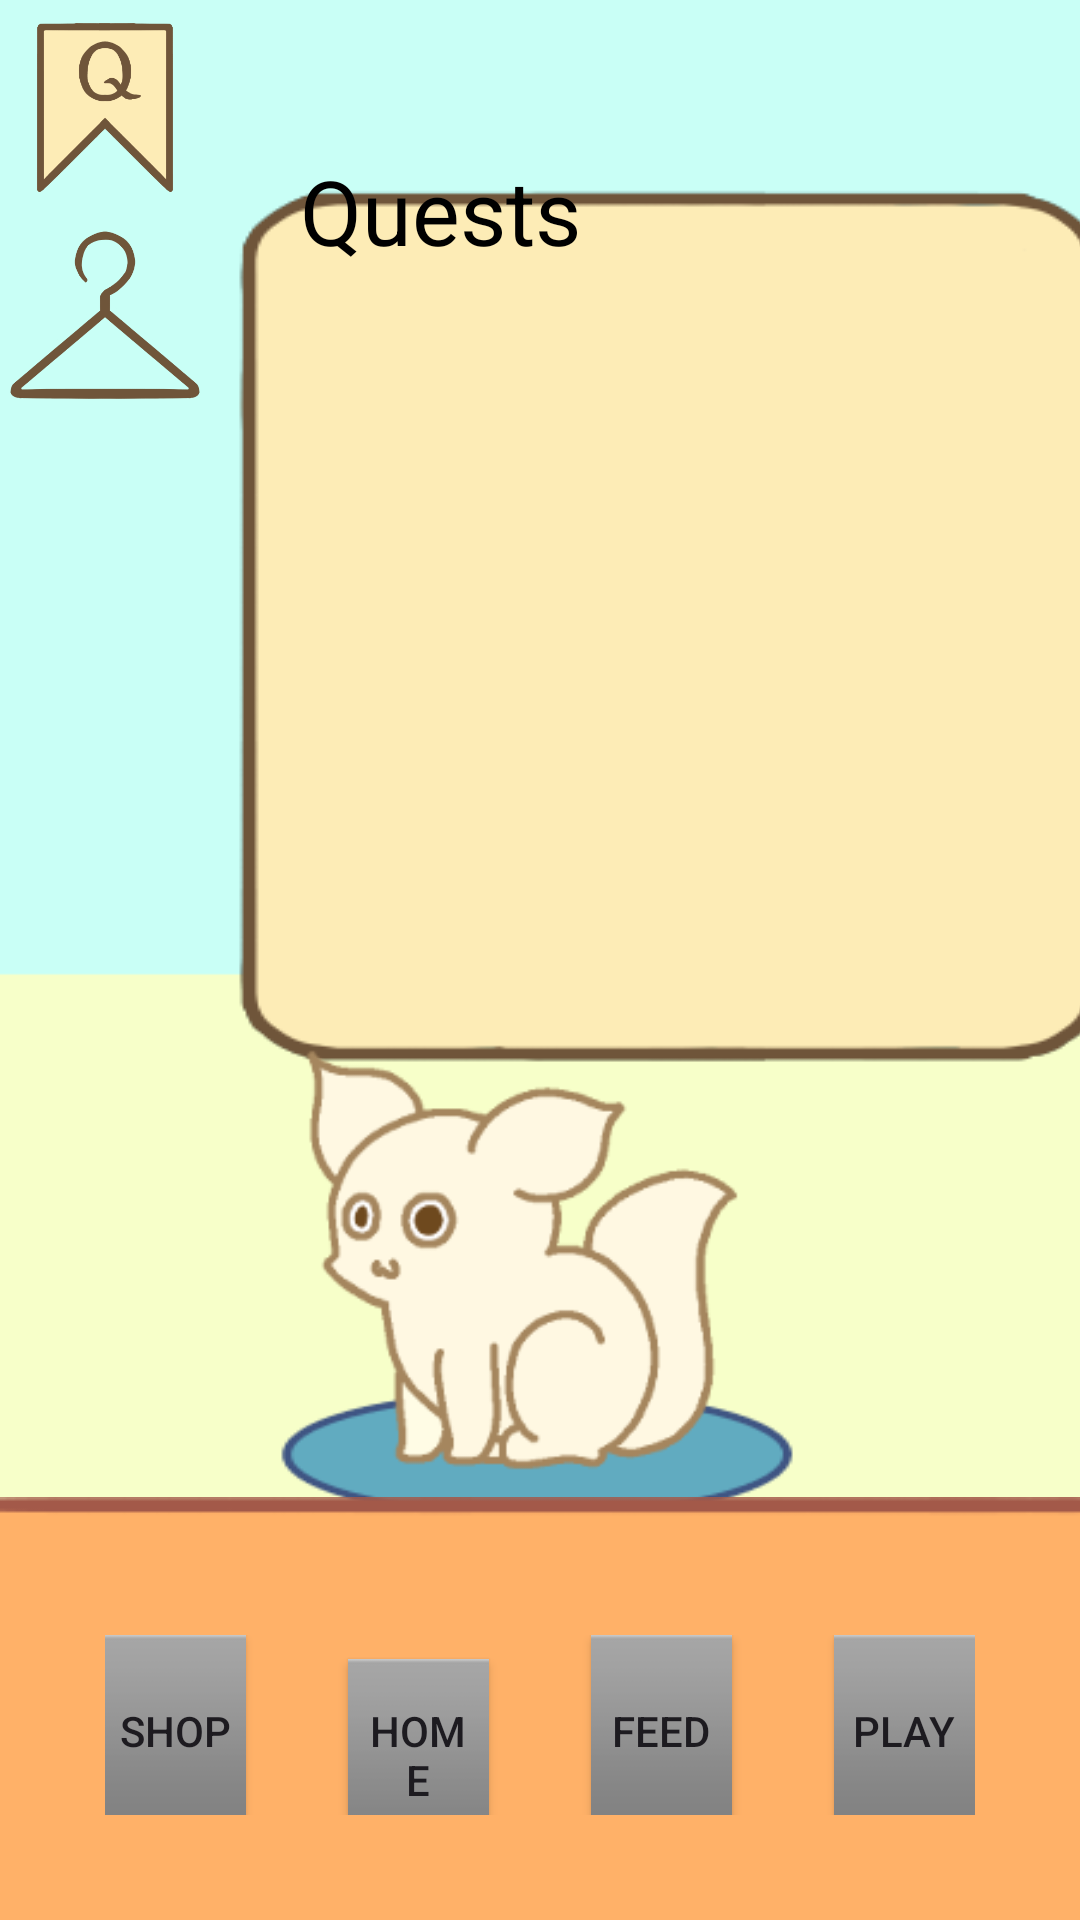

Icons on this 1080x1920 Android screen, each with the point to tap as (x=x, y=y):
custom: (x=105, y=315)
